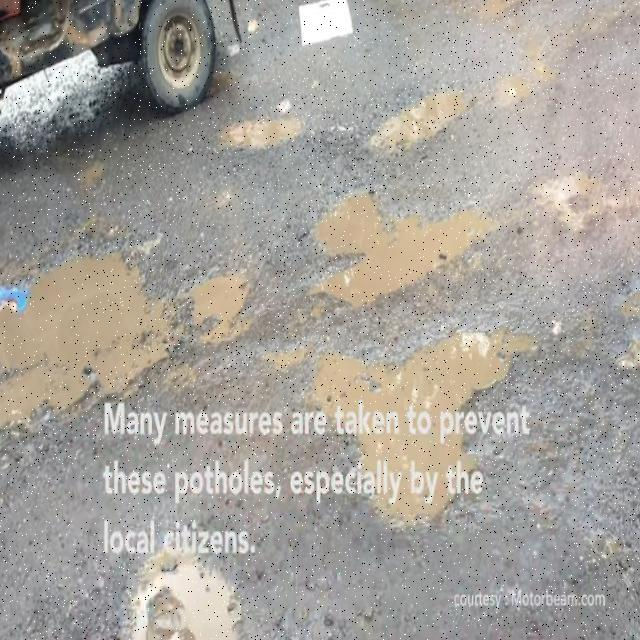pothole: (304, 333, 540, 536), (2, 260, 165, 439), (306, 187, 500, 312), (118, 534, 248, 640), (369, 89, 473, 161), (213, 115, 322, 179)
